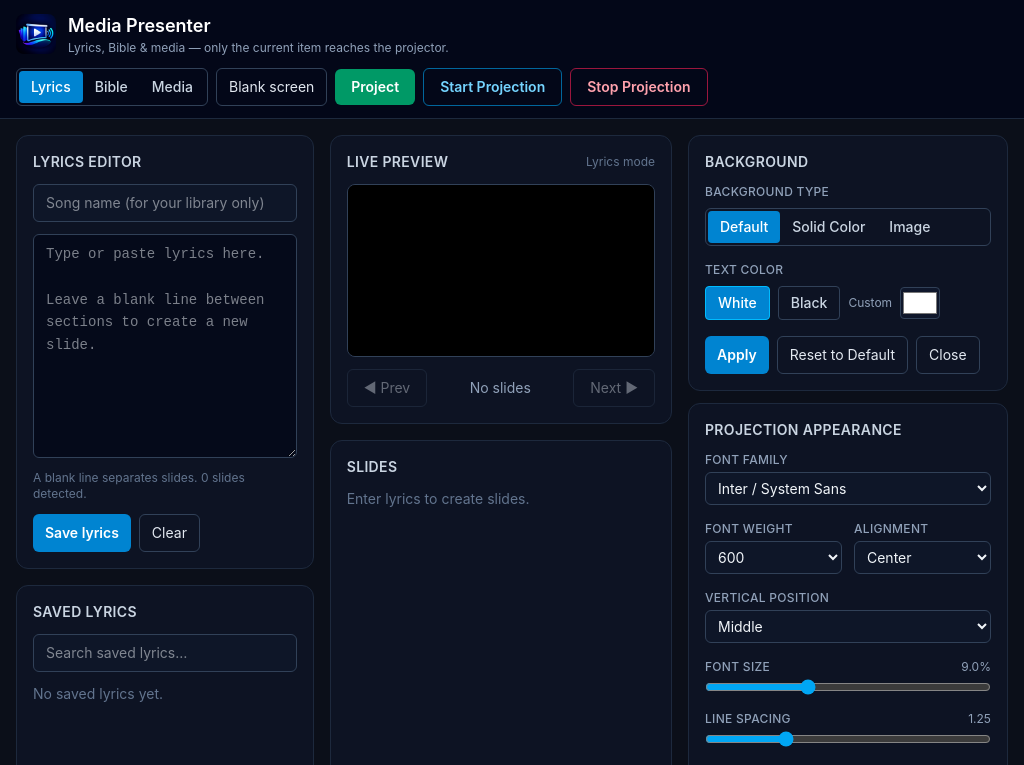
Test case: Operator › shows an error when saving with an empty editor
Check: the text "No saved lyrics yet." is shown, box [33,685,163,702]
Click the button "Save lyrics": point(82, 533) [33,514,131,552]
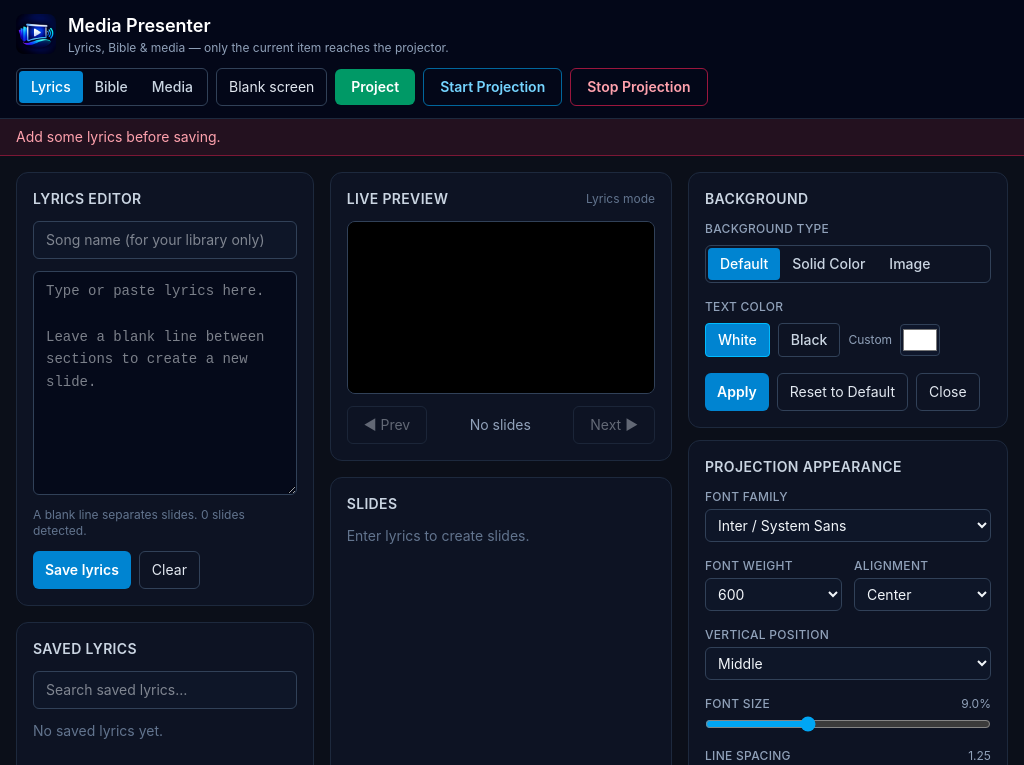
Check: the text "Add some lyrics before saving." is shown, box [0,119,1023,156]
